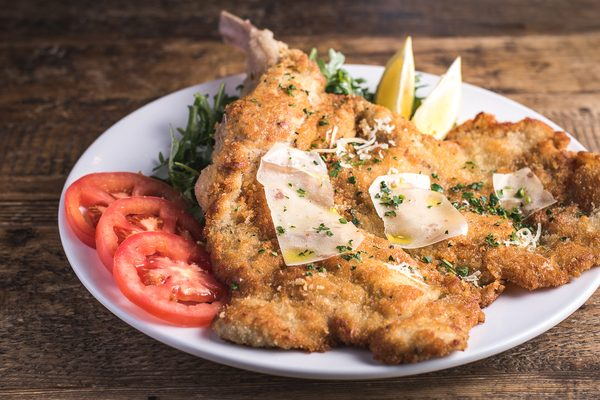curry: (1, 2, 597, 394)
